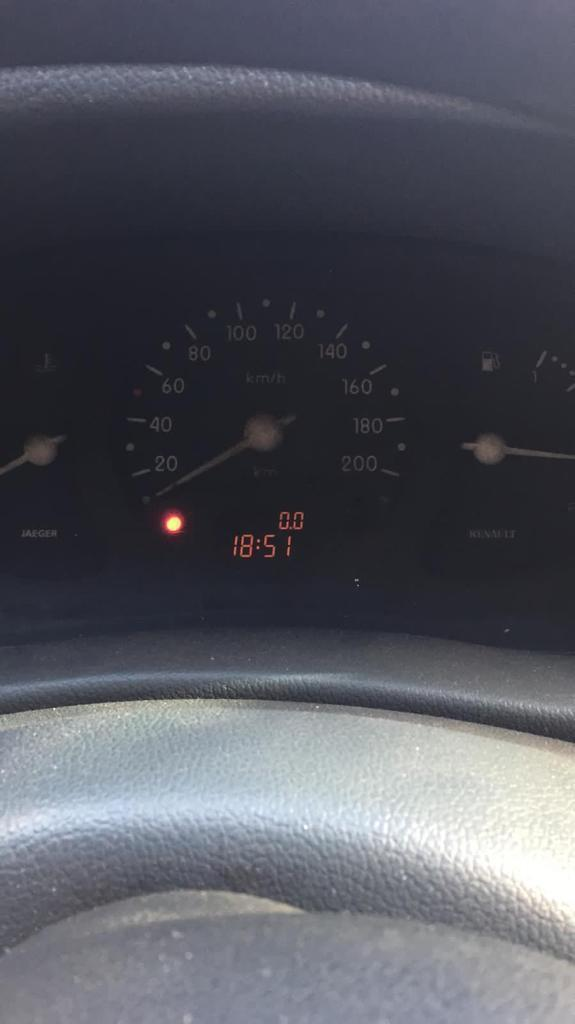,: (289, 526, 292, 530)
0: (293, 511, 304, 530), (278, 511, 289, 529)
1: (285, 534, 292, 558), (232, 533, 237, 558)
5: (263, 533, 278, 558)
8: (240, 533, 253, 558)
X: (255, 537, 261, 551)
odometer: (210, 503, 327, 568)
